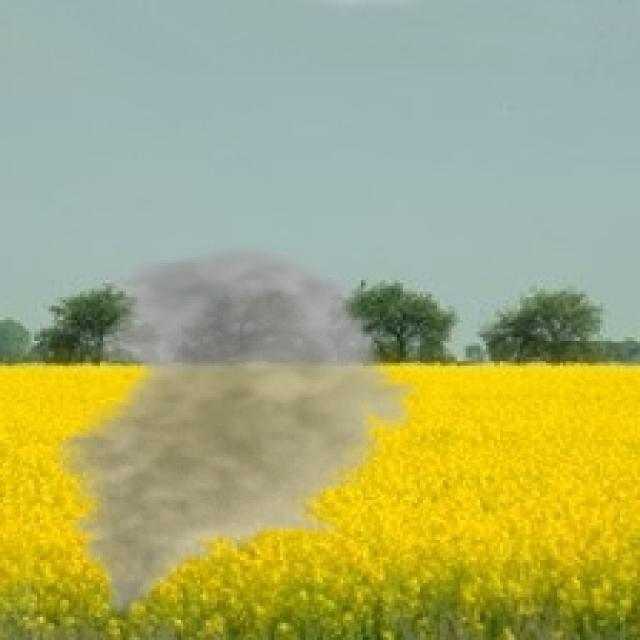smoke: (43, 240, 428, 620)
